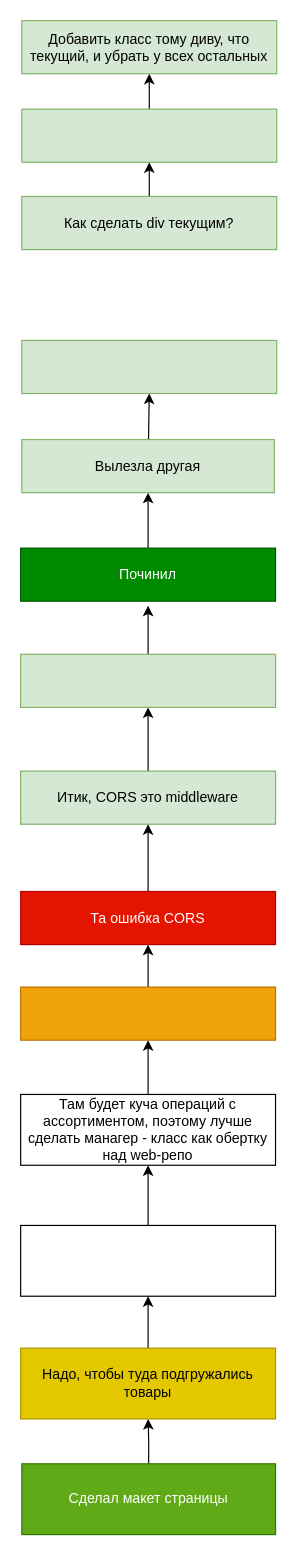
Image size: 297x1555. Some labels were removed from this diagram. The shapes that lost their labels are listed below. From the top down, each one's box as (x1, y1, x2, y2) in pixels, then its label:
(21, 108, 277, 162): По ID, наверное
(21, 339, 277, 394): То есть в CS все в порядке, но на рендере оно вешается
(19, 653, 276, 707): Middleware добавляется через builder.Services.
(19, 986, 276, 1040): Поехали
(19, 1224, 276, 1296): Из контроллера ассортиментного, но не из того, что с вь.хой, а из другого
